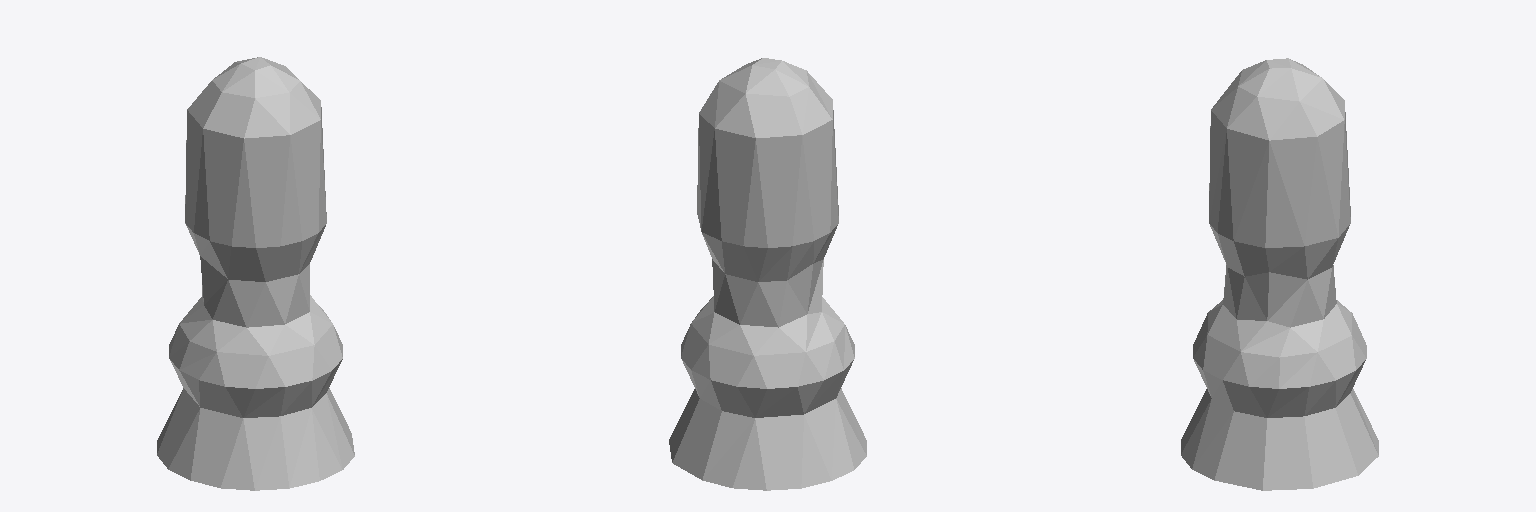
Rendered from light_4.obj.
The picture shows the model from 3 angles: view 1: azimuth 30°, elevation 25°; view 2: azimuth 150°, elevation 25°; view 3: azimuth 270°, elevation 25°; orthographic projection.
Parts seen in each view (by area): view 1: Cylinder001.003_Untitled.008; view 2: Cylinder001.003_Untitled.008; view 3: Cylinder001.003_Untitled.008.
Boxes of the visible parts, <box> form: Cylinder001.003_Untitled.008: <box>157,57,354,490</box>; Cylinder001.003_Untitled.008: <box>669,58,866,490</box>; Cylinder001.003_Untitled.008: <box>1181,58,1378,490</box>.
Size of the model in its own units: 0.2348 by 0.4952 by 0.2317.